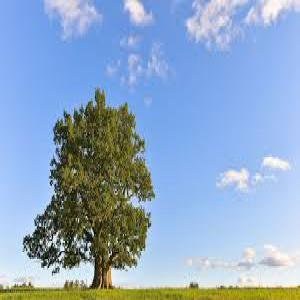Tree: (20, 86, 154, 284)
